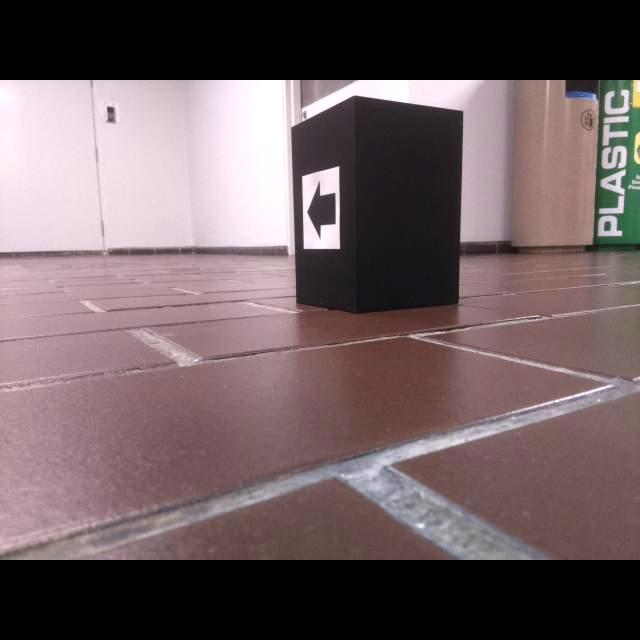LEFT: (306, 178, 336, 240)
